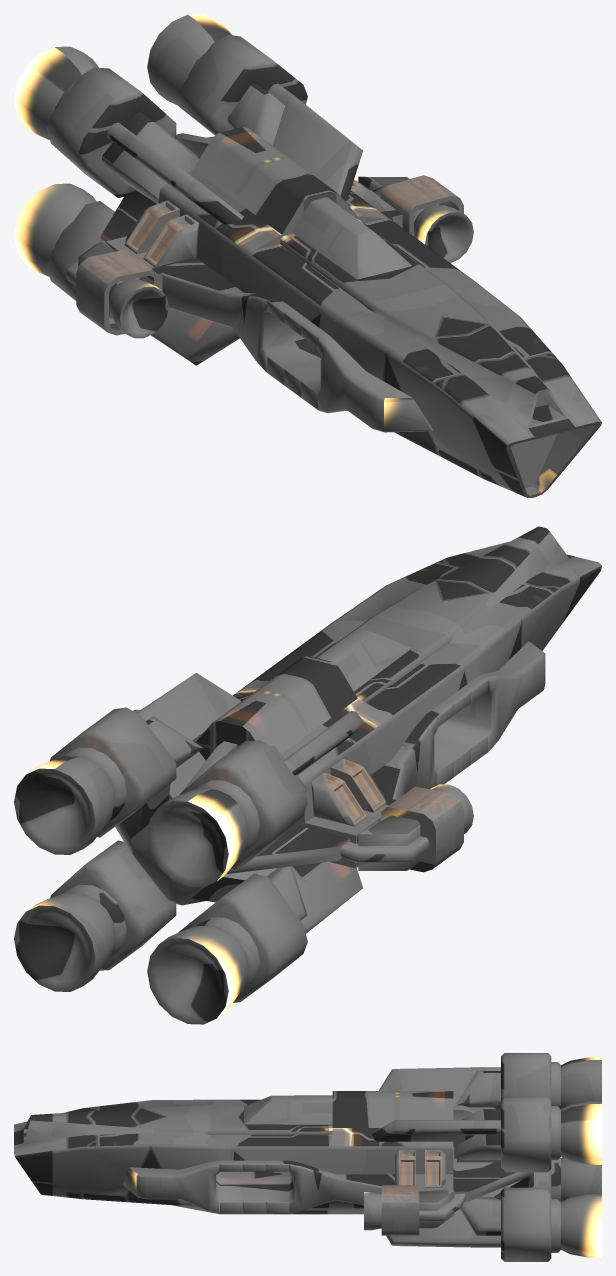
File: Apollo.fbx
The picture shows the model from 3 angles, top to bottom: view 1: azimuth 30°, elevation 25°; view 2: azimuth 150°, elevation 25°; view 3: azimuth 270°, elevation 25°; orthographic projection. The views are drawn at different scales.
Visible parts, largest first — view 1: Apollo_LOD0; view 2: Apollo_LOD0; view 3: Apollo_LOD0.
Boxes of the visible parts, x1,y1,x2,y2 form: Apollo_LOD0: [14, 14, 601, 497]; Apollo_LOD0: [14, 526, 601, 1024]; Apollo_LOD0: [14, 1053, 601, 1261].
Size of what is drawn, in the model's own units: 11153 by 7104 by 23298.
